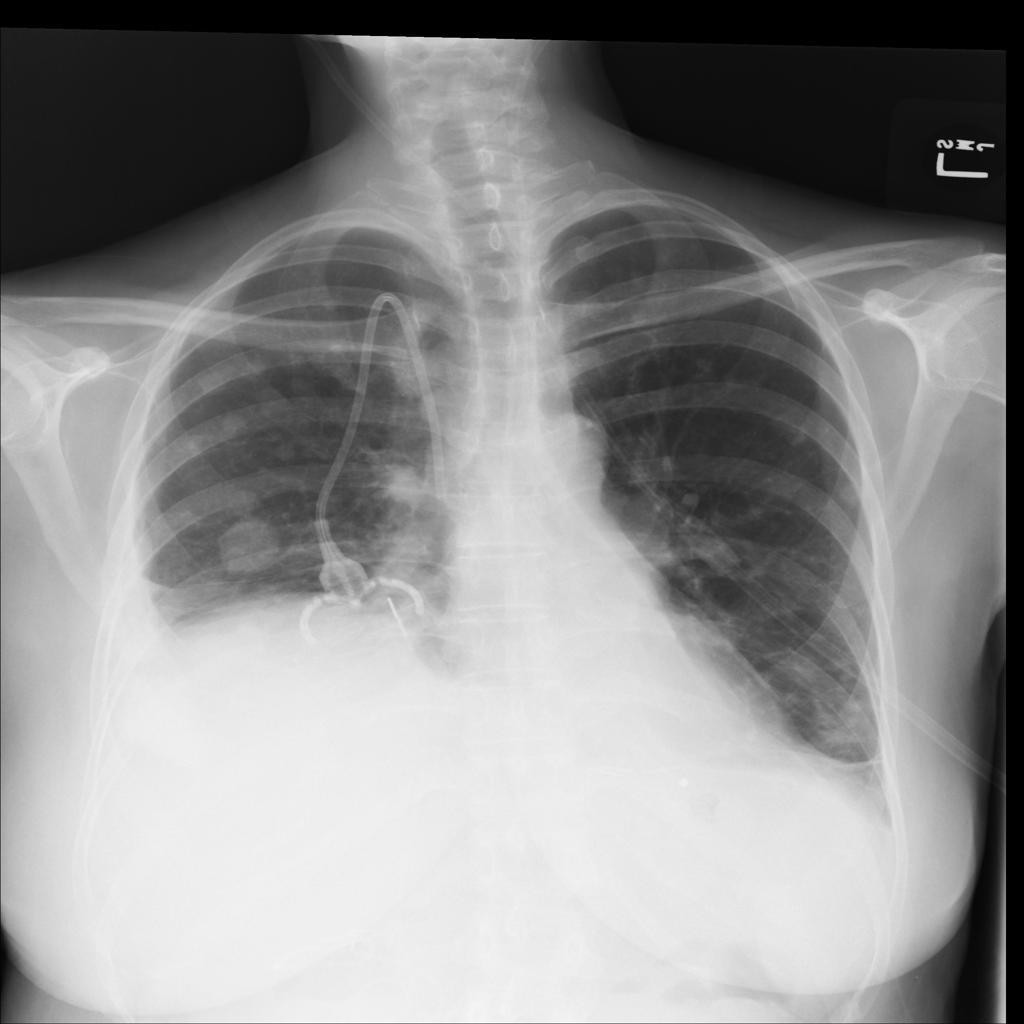nodule: (196, 507, 295, 589)
